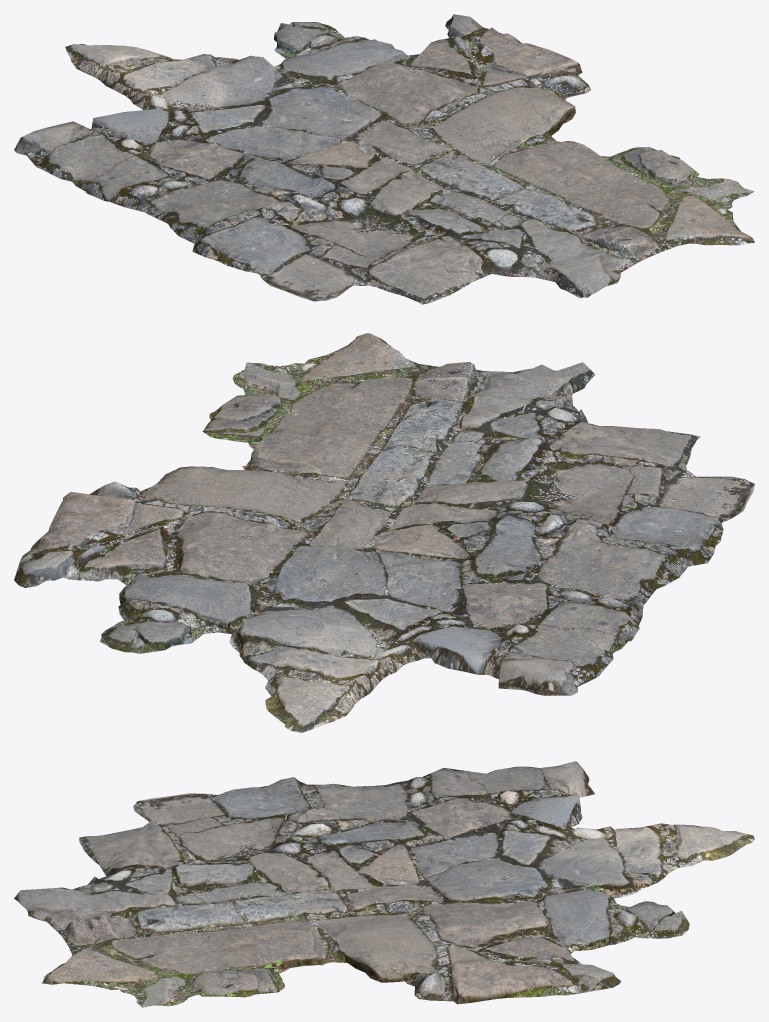
File: sm_GroundStones_01_01.fbx
3 views of the same model, one above another, from view 1: azimuth 30°, elevation 25°; view 2: azimuth 150°, elevation 25°; view 3: azimuth 270°, elevation 25° (orthographic). The views are drawn at different scales.
Visible parts, largest first — view 1: sm_GroundStones_01_01_LOD0; view 2: sm_GroundStones_01_01_LOD0; view 3: sm_GroundStones_01_01_LOD0.
Part boxes in pixels (x1,y1,x2,y2): sm_GroundStones_01_01_LOD0: (14, 14, 754, 304); sm_GroundStones_01_01_LOD0: (14, 333, 754, 732); sm_GroundStones_01_01_LOD0: (14, 761, 754, 1007).
Size of the model in its own units: 308 by 403 by 11.93.
